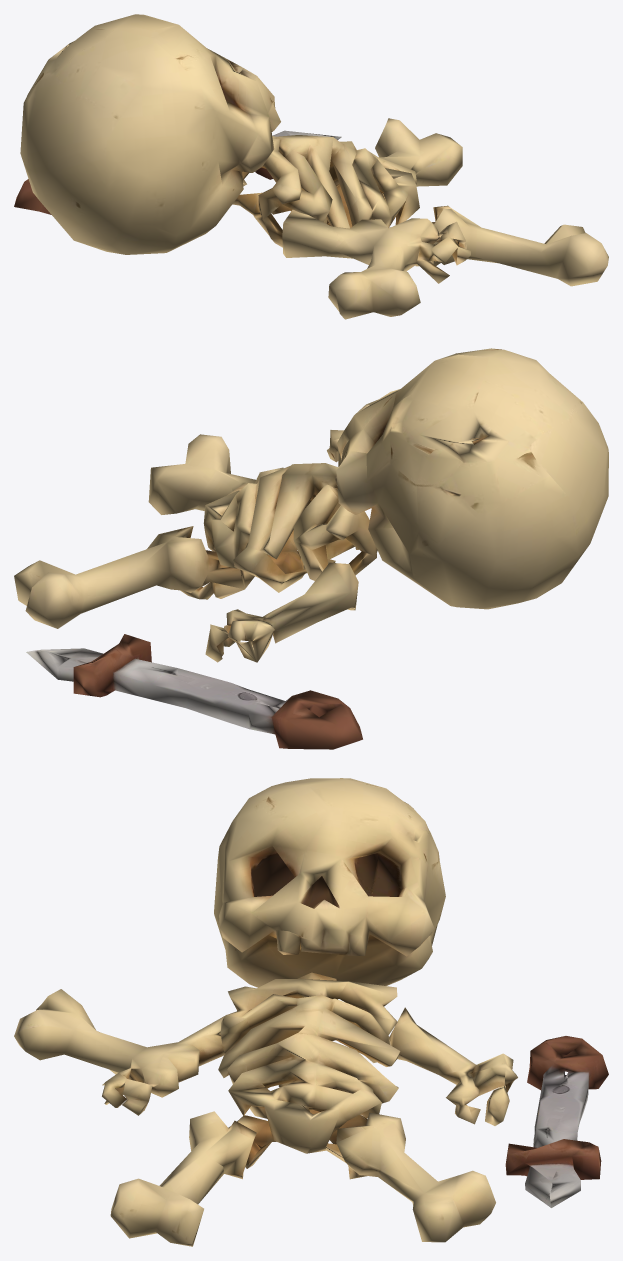
Rendered from cr_skeleton-BtuecmLT.glb.
3 views of the same model, one above another, from view 1: azimuth 30°, elevation 25°; view 2: azimuth 150°, elevation 25°; view 3: azimuth 270°, elevation 25° (orthographic). The views are drawn at different scales.
Visible parts, largest first — view 1: tripo_node_e12e8366-e006-405f-8ed3-1d5720016f76; view 2: tripo_node_e12e8366-e006-405f-8ed3-1d5720016f76; view 3: tripo_node_e12e8366-e006-405f-8ed3-1d5720016f76.
Part boxes in pixels (<box>): tripo_node_e12e8366-e006-405f-8ed3-1d5720016f76: <box>14,14,608,319</box>; tripo_node_e12e8366-e006-405f-8ed3-1d5720016f76: <box>14,348,608,749</box>; tripo_node_e12e8366-e006-405f-8ed3-1d5720016f76: <box>14,778,608,1246</box>.
Size of the model in its own units: 1.71 by 0.9451 by 1.8.
1 material, 1 textured.
